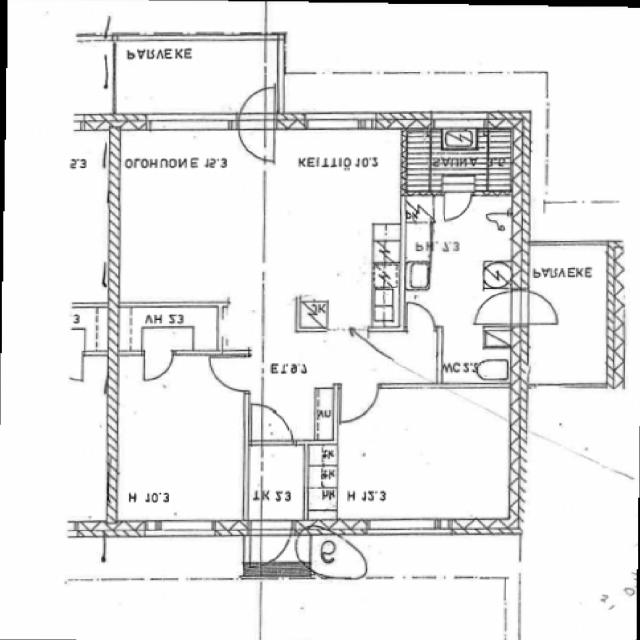door: (251, 521, 290, 573), (238, 76, 274, 127), (252, 401, 293, 445), (238, 111, 274, 161), (477, 291, 528, 323), (512, 291, 563, 323), (342, 382, 378, 421), (207, 358, 249, 391), (144, 350, 173, 383), (444, 190, 472, 222), (408, 301, 435, 331)
